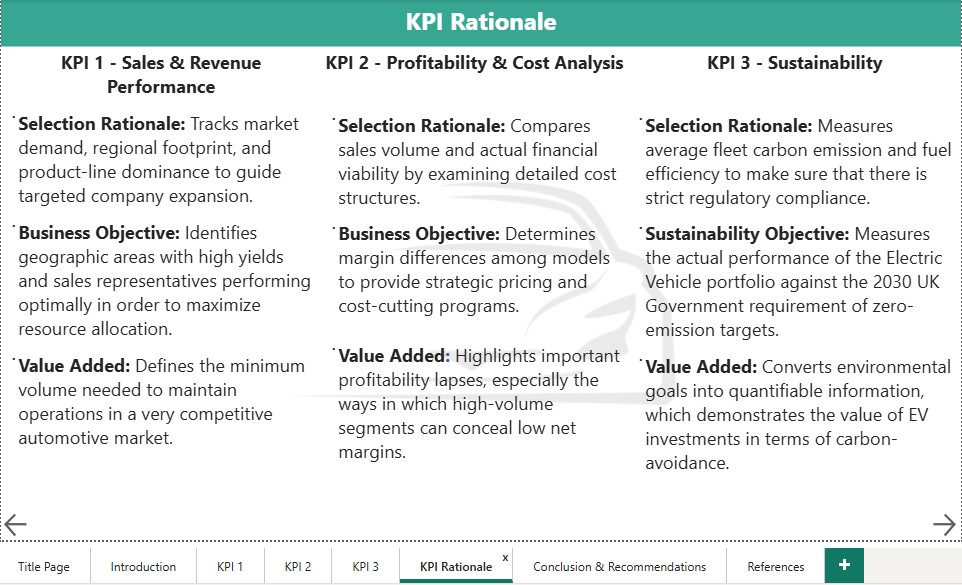

Layout of this report page (visuals, bound fields, positions):
{"tool":"powerbi","page":{"name":"KPI Rationale","canvas":[1280,720],"ordinal":5},"visuals":[{"type":"image","box":[0,62.7,1280,657.3],"z":0},{"type":"textbox","box":[0,0,1280,61.7],"z":1000},{"type":"textbox","box":[0,61.9,426.7,657.9],"z":2000},{"type":"textbox","box":[426.7,61.9,408.8,657.9],"z":3000},{"type":"textbox","box":[835.4,61.9,444.6,657.9],"z":4000},{"type":"actionButton","box":[0,679.9,46.8,39.9],"z":5000},{"type":"actionButton","box":[1237.3,679.9,42.7,39.9],"z":6000}]}

Visuals, with their boxes on the page's 1280x720 design canvas (x1, y1, x2, y2). These are canvas units, not pixel positions in the 962x585 screenshot, which may show the page scaled, cropped or inside an application window:
image: crop(0, 63, 1280, 720)
textbox: crop(0, 0, 1280, 62)
textbox: crop(0, 62, 427, 720)
textbox: crop(427, 62, 836, 720)
textbox: crop(835, 62, 1280, 720)
actionButton: crop(0, 680, 47, 720)
actionButton: crop(1237, 680, 1280, 720)
